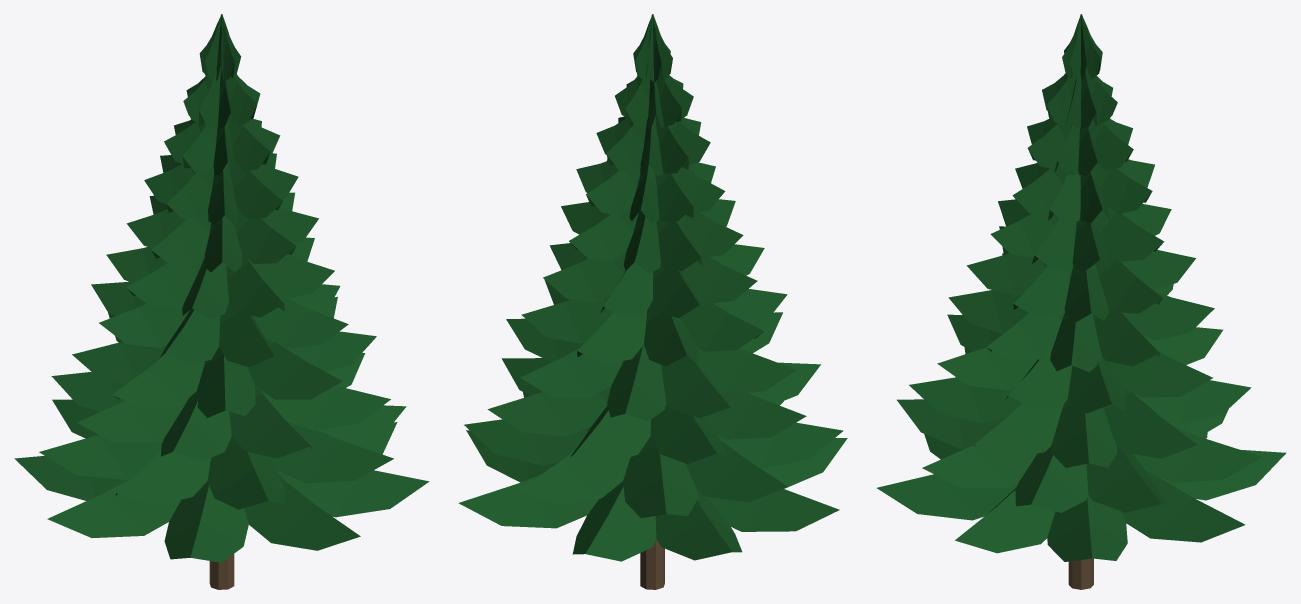
The model's file is PineTree.fbx.
The picture shows the model from 3 angles, left to right: view 1: azimuth 30°, elevation 25°; view 2: azimuth 150°, elevation 25°; view 3: azimuth 270°, elevation 25°; orthographic projection.
Parts seen in each view (by area): view 1: Plane.026, PineTrunk; view 2: Plane.026, PineTrunk; view 3: Plane.026, PineTrunk.
Part boxes in pixels (x1,y1,x2,y2): Plane.026: (14,14,429,562); PineTrunk: (209,554,234,589); Plane.026: (458,14,847,561); PineTrunk: (640,539,664,589); Plane.026: (877,14,1286,561); PineTrunk: (1068,558,1093,589).
Bounding box in the file's own units: 924 × 1390 × 907.
